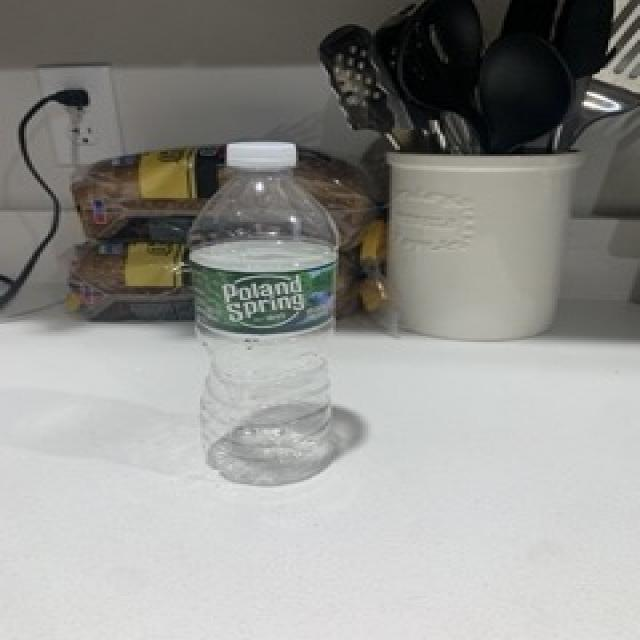water_bottle: (184, 139, 344, 489)
